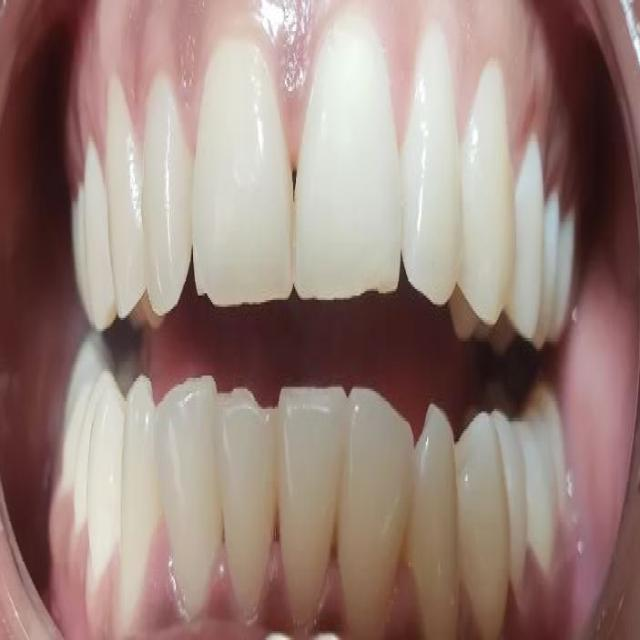1st Molar: (514, 415, 557, 569), (62, 331, 102, 469), (555, 209, 577, 339)
1st Premolar: (458, 415, 510, 638), (87, 365, 124, 589), (508, 136, 546, 342), (84, 135, 112, 333)
2nd Molar: (527, 387, 565, 494)
2nd Premolar: (491, 406, 528, 593), (73, 376, 99, 533), (539, 183, 561, 354), (71, 183, 89, 307)
Canine: (460, 60, 516, 327), (404, 404, 459, 636), (117, 370, 160, 620), (104, 73, 145, 318)
Central Incisor: (294, 13, 401, 302), (191, 31, 293, 309), (277, 387, 349, 633), (215, 389, 278, 620)
Lateral Incisor: (337, 383, 415, 640), (401, 16, 463, 307), (153, 376, 222, 619), (140, 73, 194, 316)
